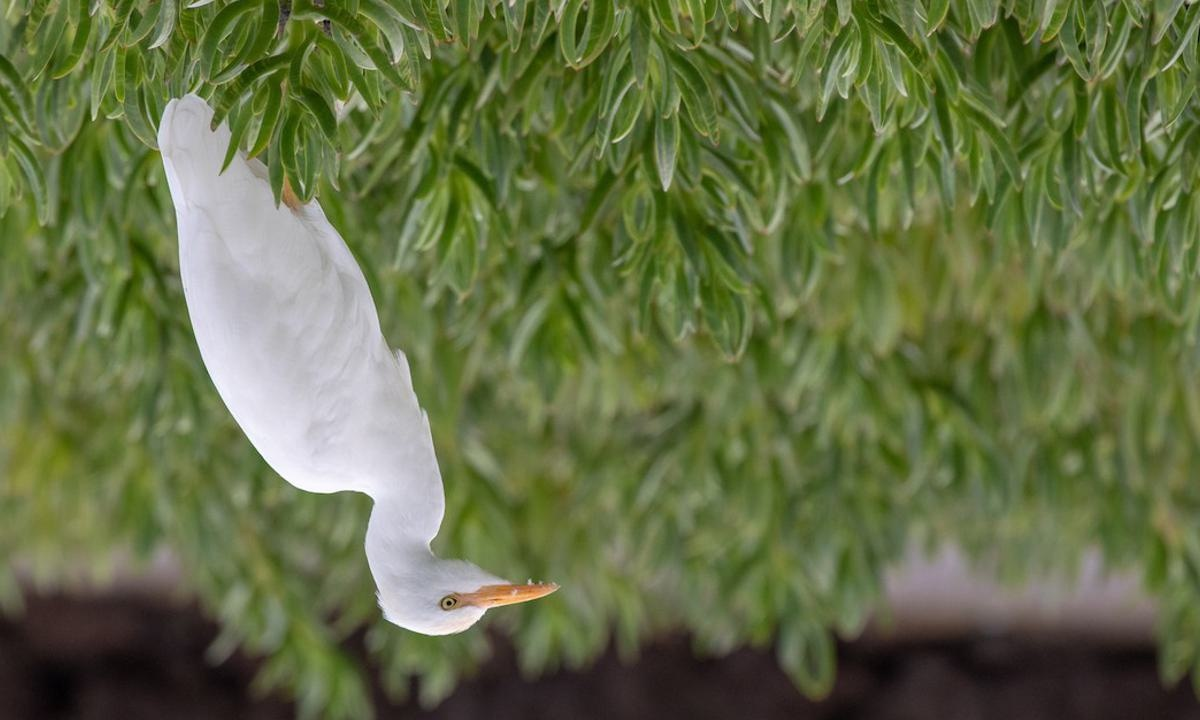egret: (147, 101, 569, 646)
